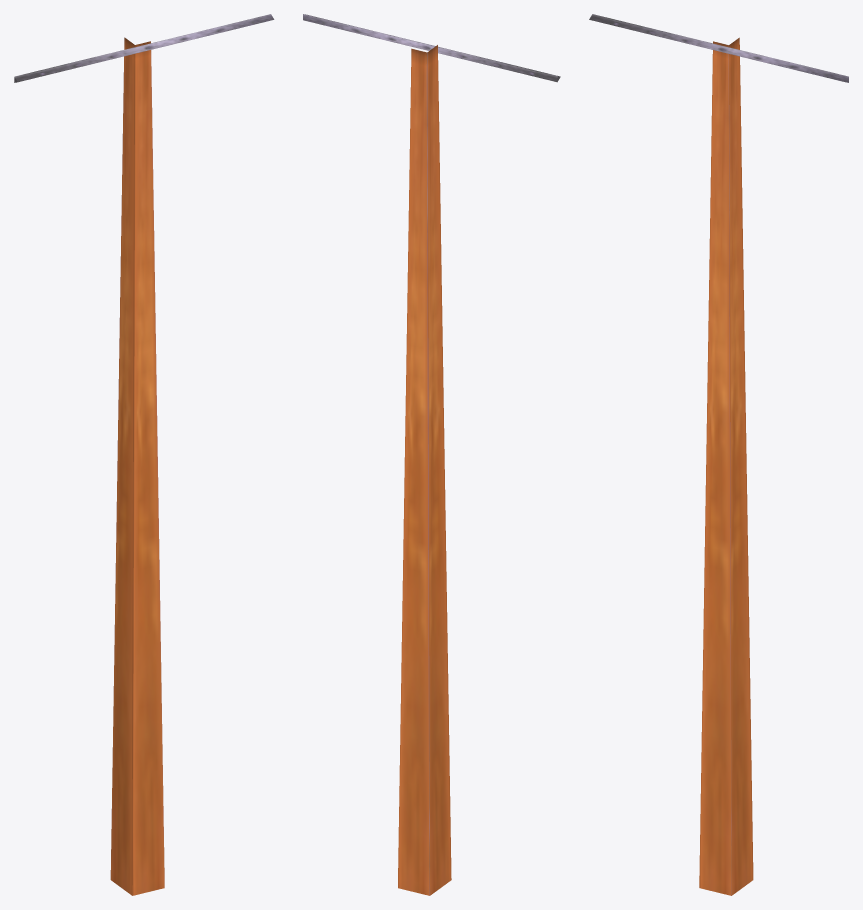
File: ELEC_POLE03.glb
3 views of the same model, side by side, from view 1: azimuth 30°, elevation 25°; view 2: azimuth 150°, elevation 25°; view 3: azimuth 330°, elevation 25° (orthographic).
Visible parts, largest first — view 1: ELEC_POLE03; view 2: ELEC_POLE03; view 3: ELEC_POLE03.
Boxes of the visible parts, x1,y1,x2,y2 form: ELEC_POLE03: (14,14,274,895); ELEC_POLE03: (303,14,560,895); ELEC_POLE03: (589,14,848,895).
Bounding box in the file's own units: 345 × 1085 × 50.76.
Materials: 1 (1 with a texture image).
